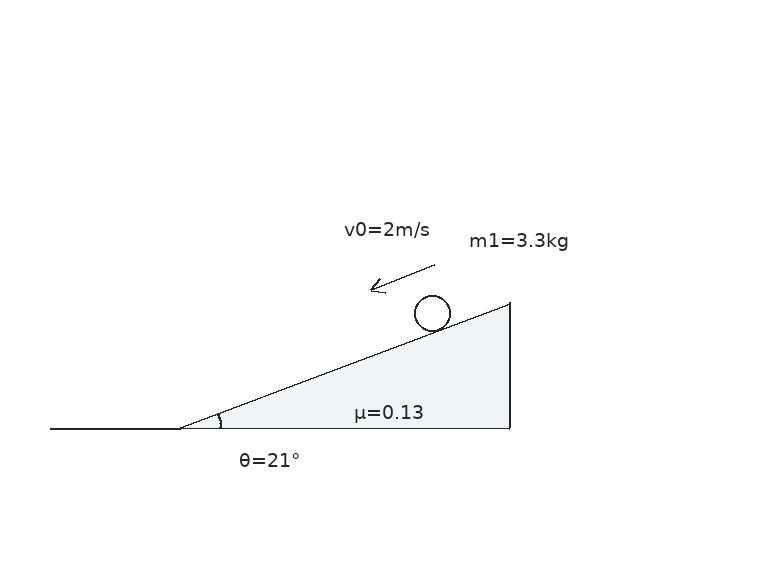ball: (412, 293, 452, 333)
ramp: (179, 300, 511, 430)
